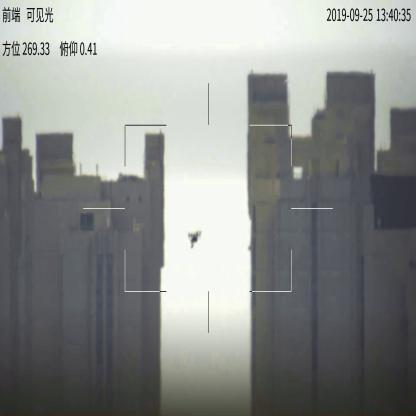uav: (184, 228, 205, 250)
